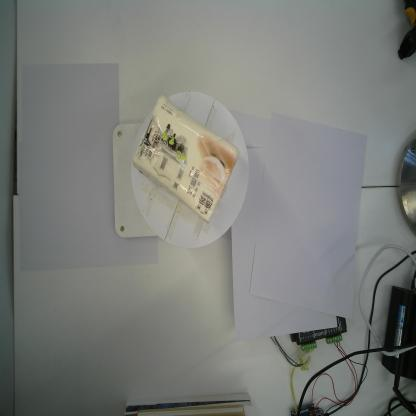Tissue: (130, 92, 241, 228)
